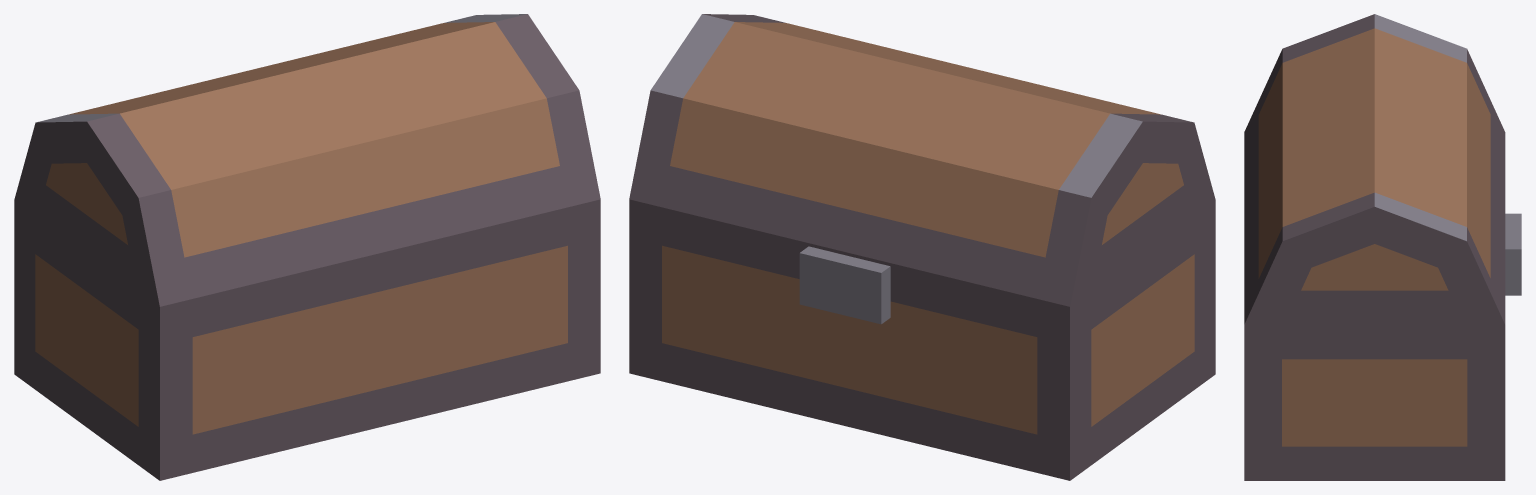
Rendered from TB_Prop_Chest_B.FBX.
The picture shows the model from 3 angles, left to right: view 1: azimuth 30°, elevation 25°; view 2: azimuth 150°, elevation 25°; view 3: azimuth 270°, elevation 25°; orthographic projection. The views are drawn at different scales.
Visible parts, largest first — view 1: TB_Prop_Chest_B; view 2: TB_Prop_Chest_B; view 3: TB_Prop_Chest_B.
Part boxes in pixels (x1,y1,x2,y2): TB_Prop_Chest_B: (14, 14, 600, 480); TB_Prop_Chest_B: (629, 14, 1215, 480); TB_Prop_Chest_B: (1244, 14, 1521, 480).
Size of the model in its own units: 1.05 by 0.6939 by 0.6362.
